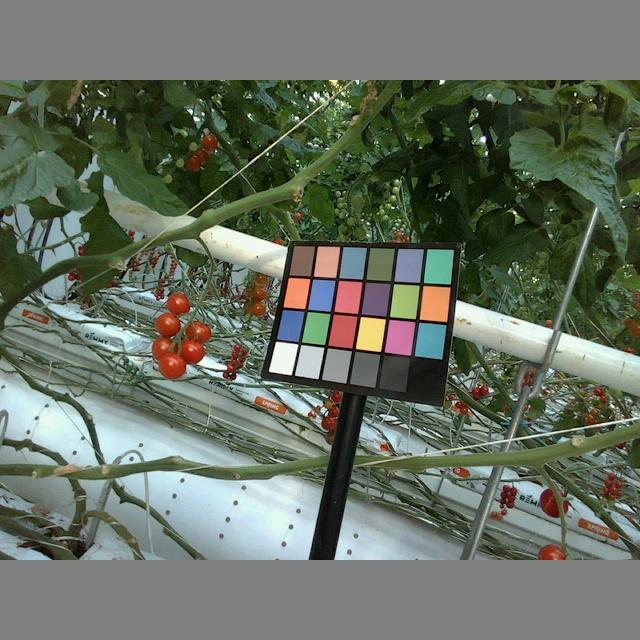red: (156, 351, 187, 378), (150, 336, 179, 361), (156, 312, 182, 337), (185, 319, 210, 345), (180, 340, 205, 365), (167, 292, 192, 315)
